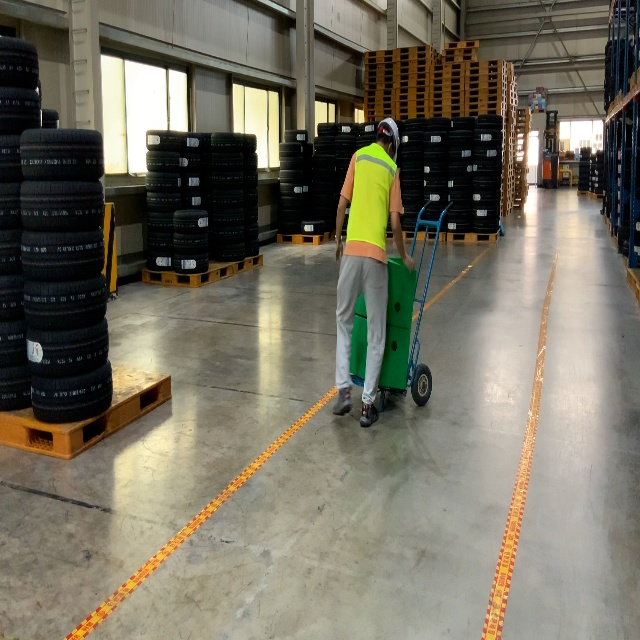Box: (349, 312, 411, 391), (354, 256, 418, 331)
Worker: (333, 116, 415, 428)
